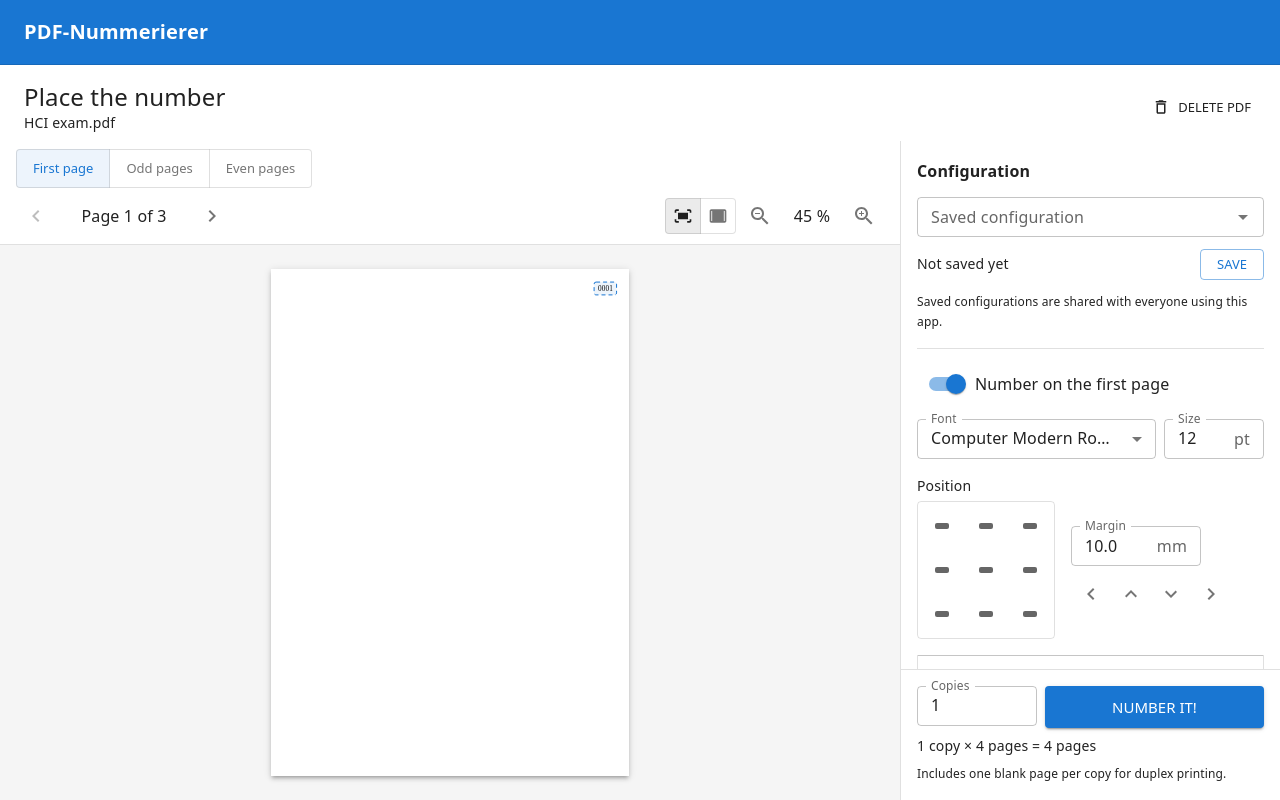
Test: deleting the uploaded PDF › keeps everything when the user cancels
expect the text "HCI exam.pdf" is shown: met, box left=24, top=113, right=115, bottom=132
Click the button "Delete PDF" at (1203,107), box left=1149, top=92, right=1256, bottom=122
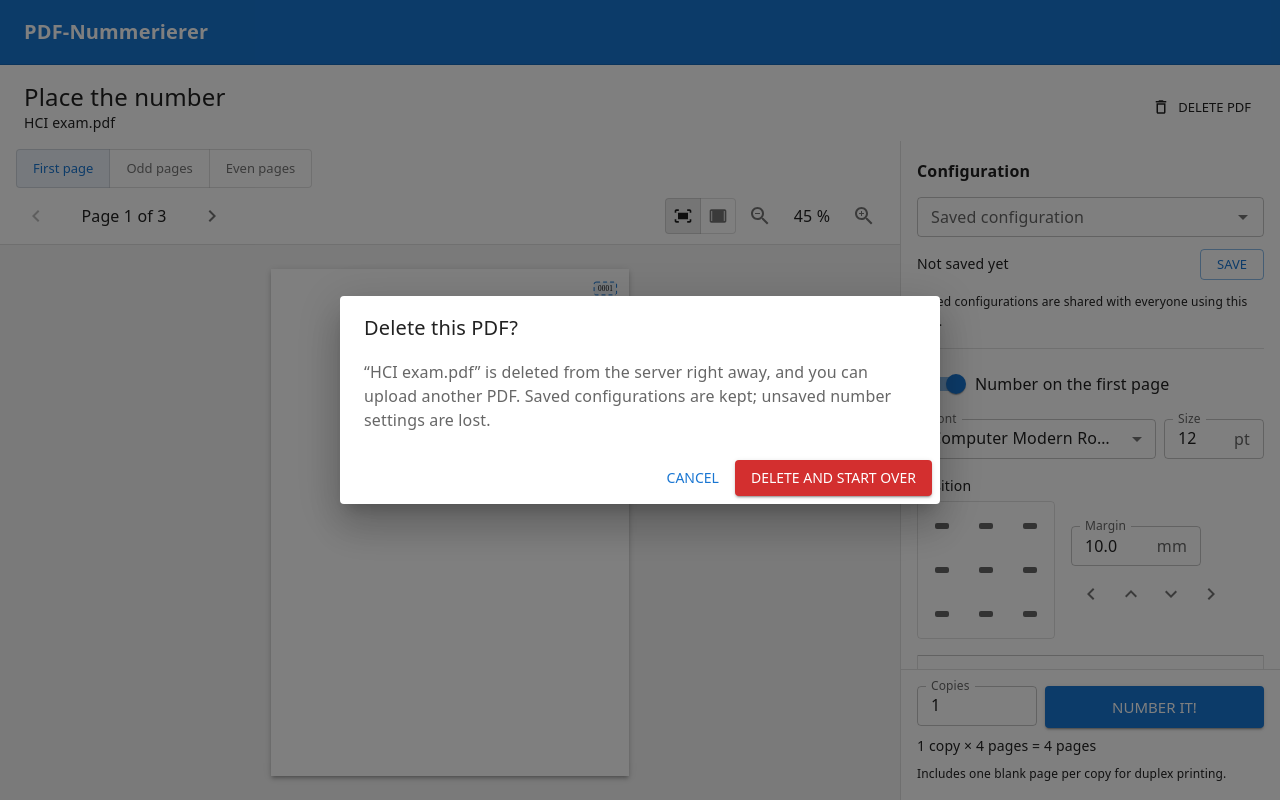
Click the button "Cancel" at (693,478), box left=658, top=460, right=727, bottom=496
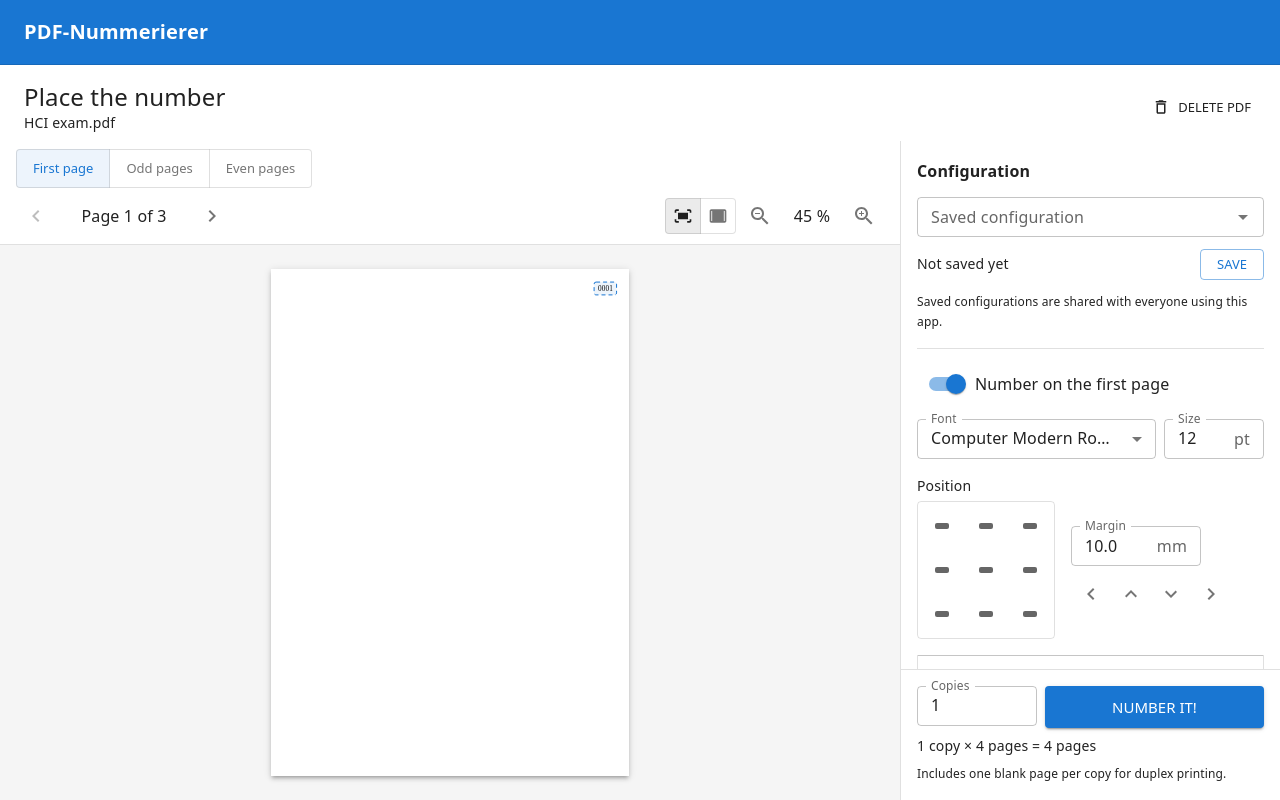
expect the dialog is gone: met
